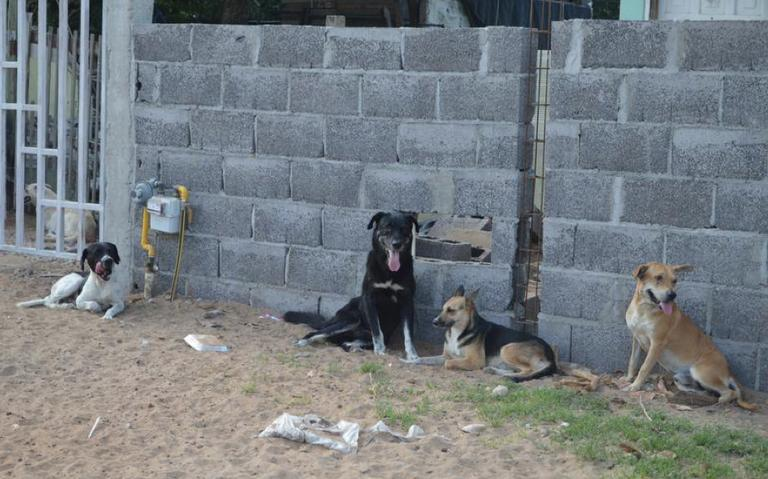normal_dogs: (282, 202, 425, 368), (619, 255, 760, 421), (430, 291, 566, 388), (15, 239, 144, 325)
